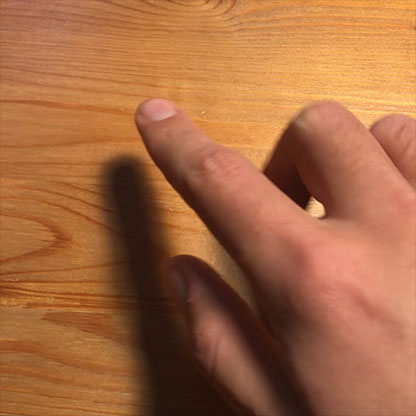fingertip: (134, 95, 191, 131)
